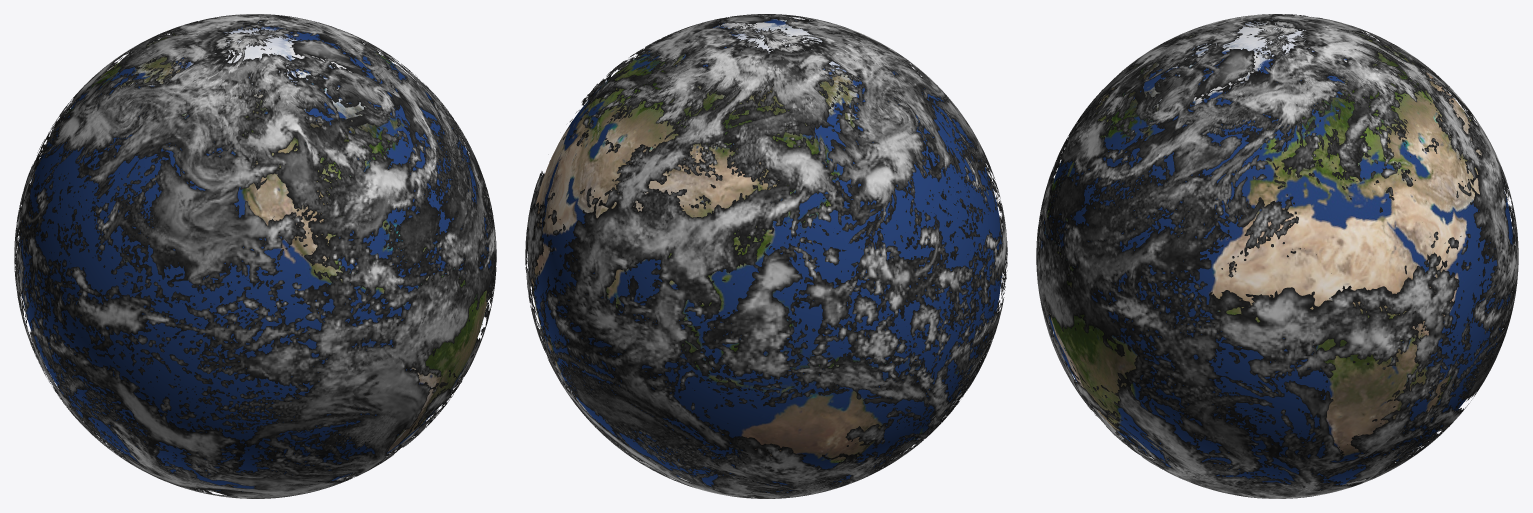
File: earth.glb
The picture shows the model from 3 angles, left to right: view 1: azimuth 30°, elevation 25°; view 2: azimuth 150°, elevation 25°; view 3: azimuth 270°, elevation 25°; orthographic projection.
Parts seen in each view (by area): view 1: Sphere_0; view 2: Sphere_0; view 3: Sphere_0.
Part boxes in pixels (bbox=[...]): Sphere_0: bbox=[14, 14, 496, 498]; Sphere_0: bbox=[525, 14, 1007, 498]; Sphere_0: bbox=[1036, 14, 1518, 498].
Size of the model in its own units: 7.43 by 7.51 by 7.43.
Materials: 2 (2 with a texture image).
